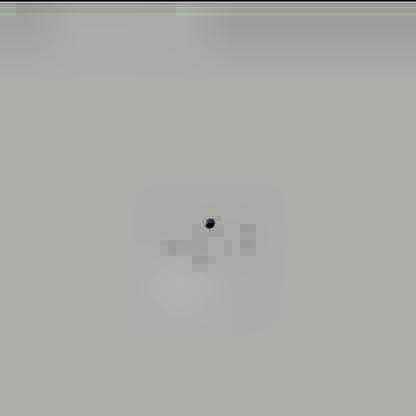golfball: (201, 215, 212, 226)
